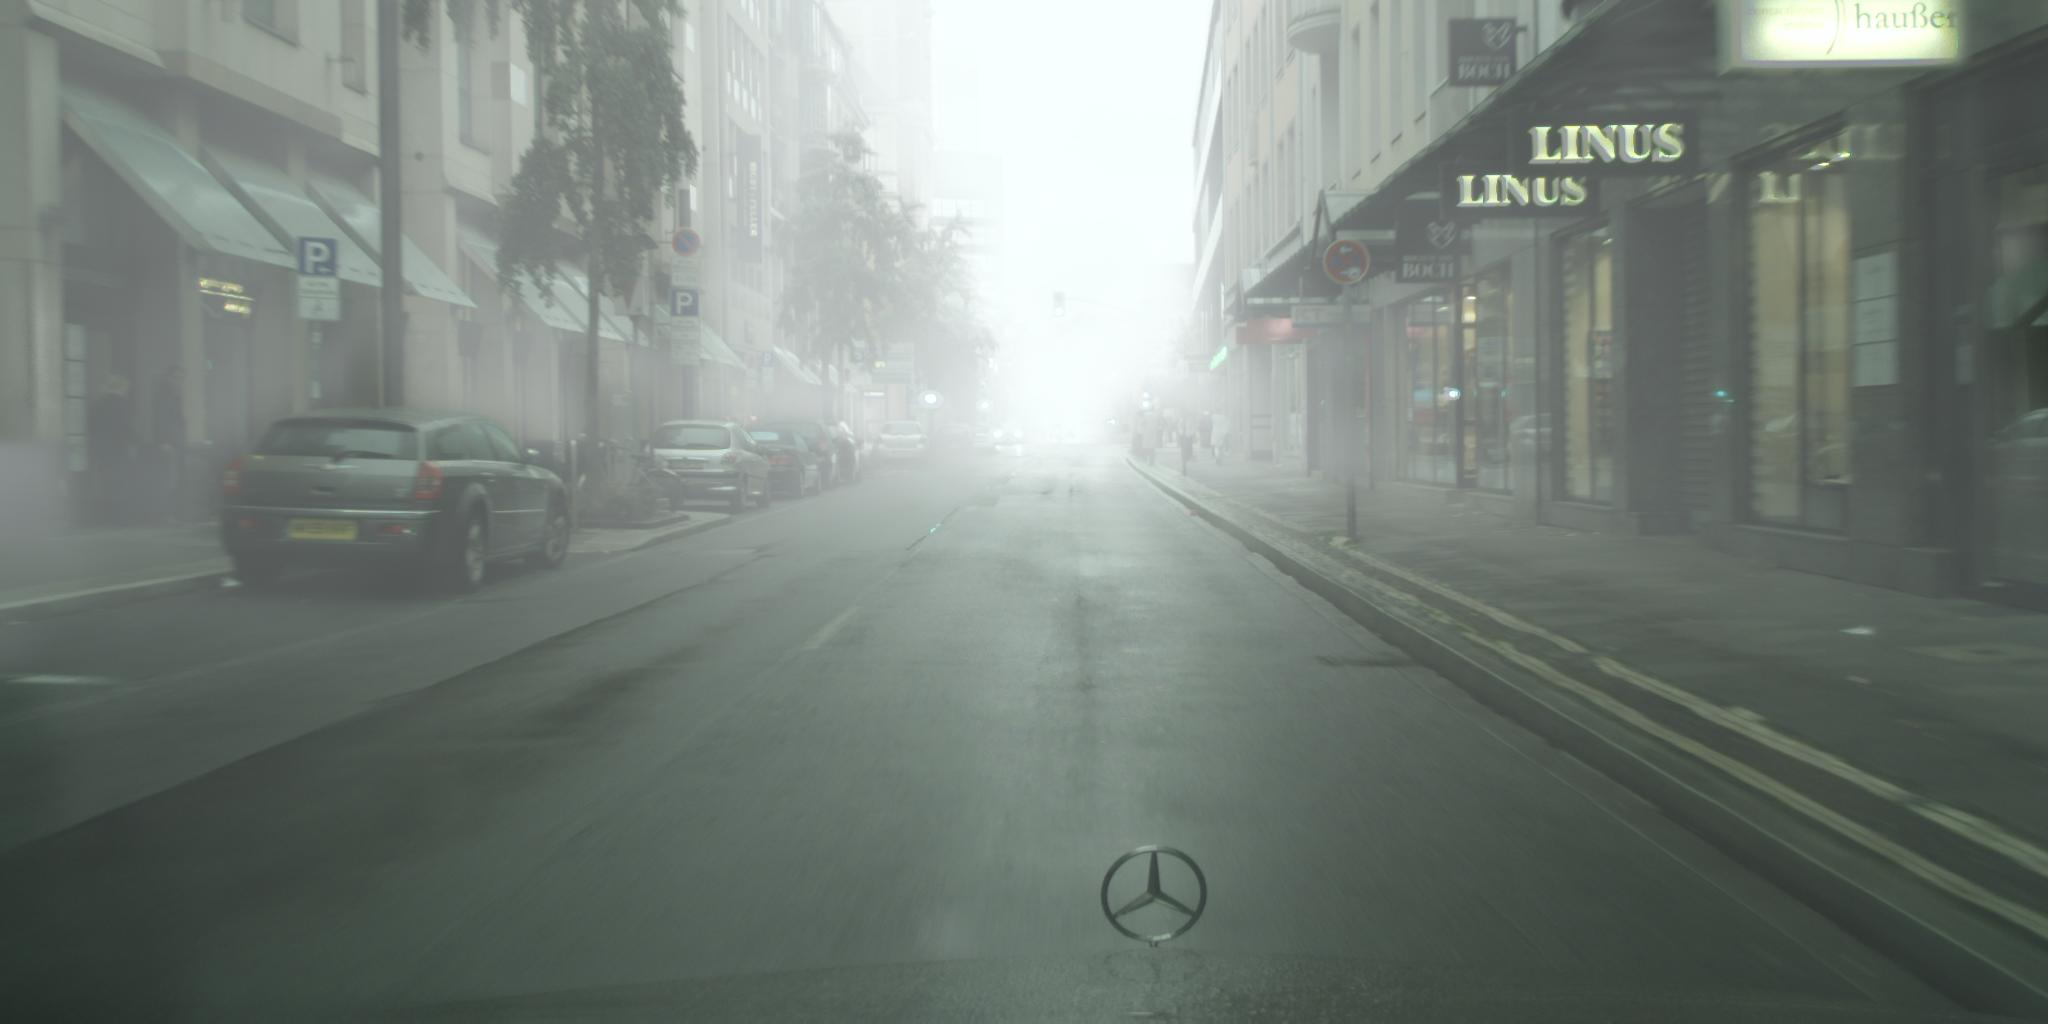bicycle: (577, 430, 692, 515)
car: (219, 408, 573, 597), (643, 421, 773, 516), (744, 427, 823, 502), (765, 419, 842, 492), (870, 422, 936, 472), (822, 422, 865, 487), (936, 424, 978, 461), (964, 423, 997, 457), (995, 422, 1028, 447)
